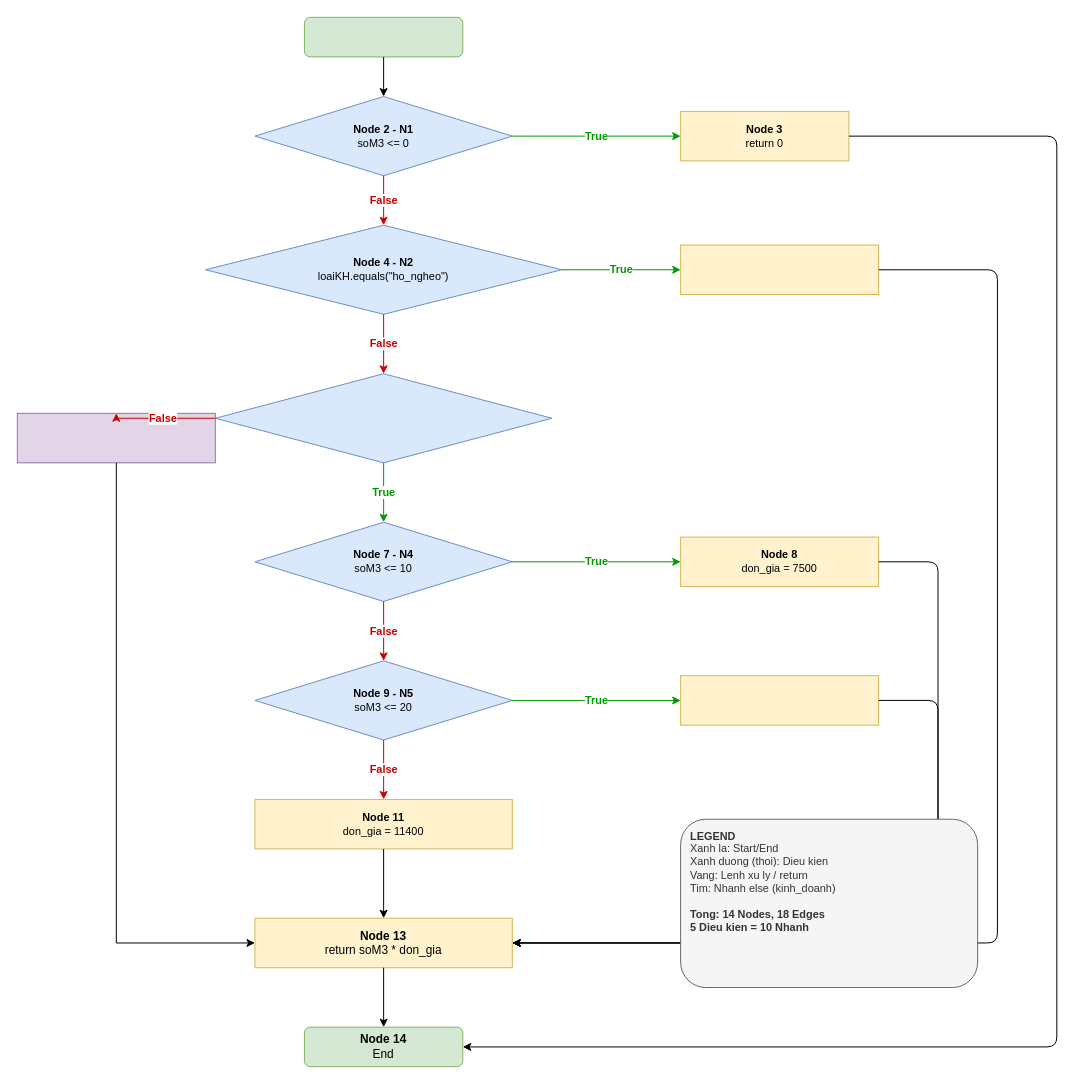
The diagram is 1082 pixels wide and 1084 high, and some of its shapes have lost their labels. The centre of each missing label's shape, as x and y in pixels:
Node 1 Start: the point at 383,36
Node 10 don_gia = 9900: the point at 779,700
Node 12 don_gia = 22000: the point at 115,437
Node 5 don_gia = 5000: the point at 779,269
Node 6 - N3 loaiKH.equals("dan_cu"): the point at 383,418
